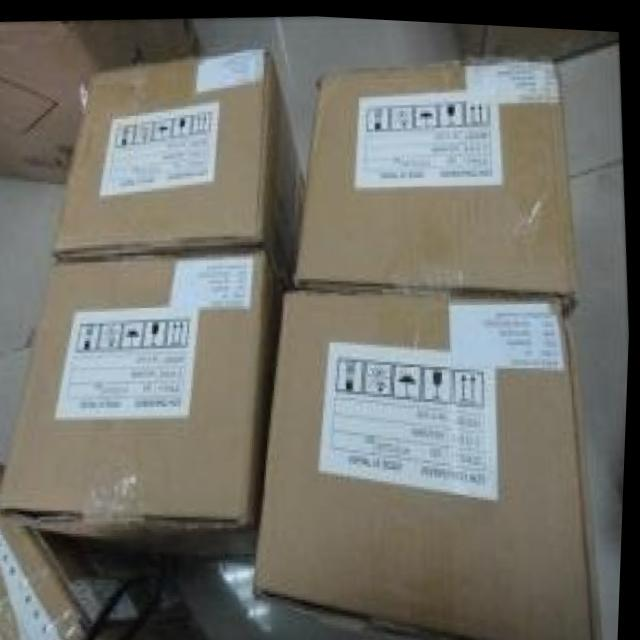box: (254, 284, 608, 640), (0, 244, 287, 548), (295, 55, 577, 306), (52, 46, 309, 283), (0, 463, 194, 640), (0, 17, 206, 182), (451, 18, 616, 57), (138, 616, 213, 640)
